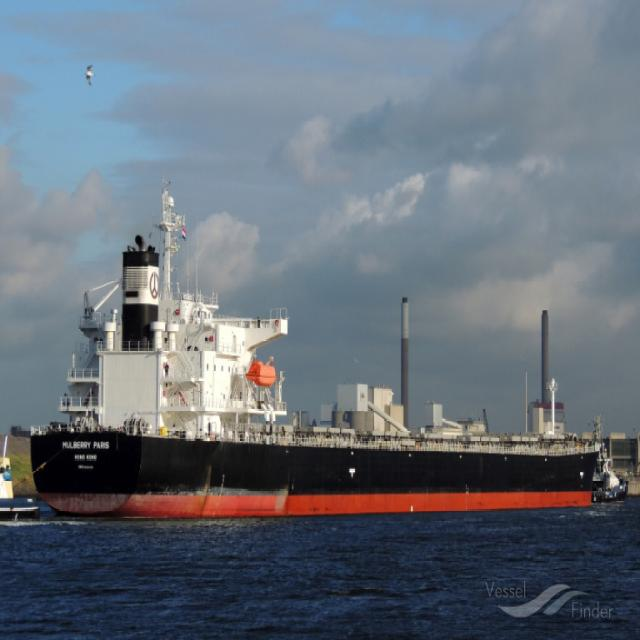Bulk Carrier: (29, 184, 598, 518)
tugboat: (596, 435, 628, 503)
